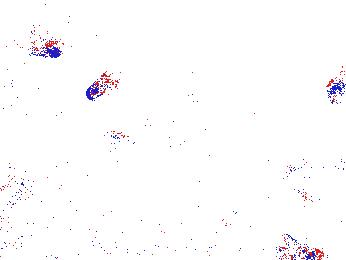X-ray fish: (85, 72, 117, 103), (324, 68, 346, 112)
red belly glassfish: (215, 206, 241, 231)
redtail glassfish: (105, 129, 192, 157), (273, 157, 346, 182), (292, 186, 346, 217), (24, 29, 63, 63)
